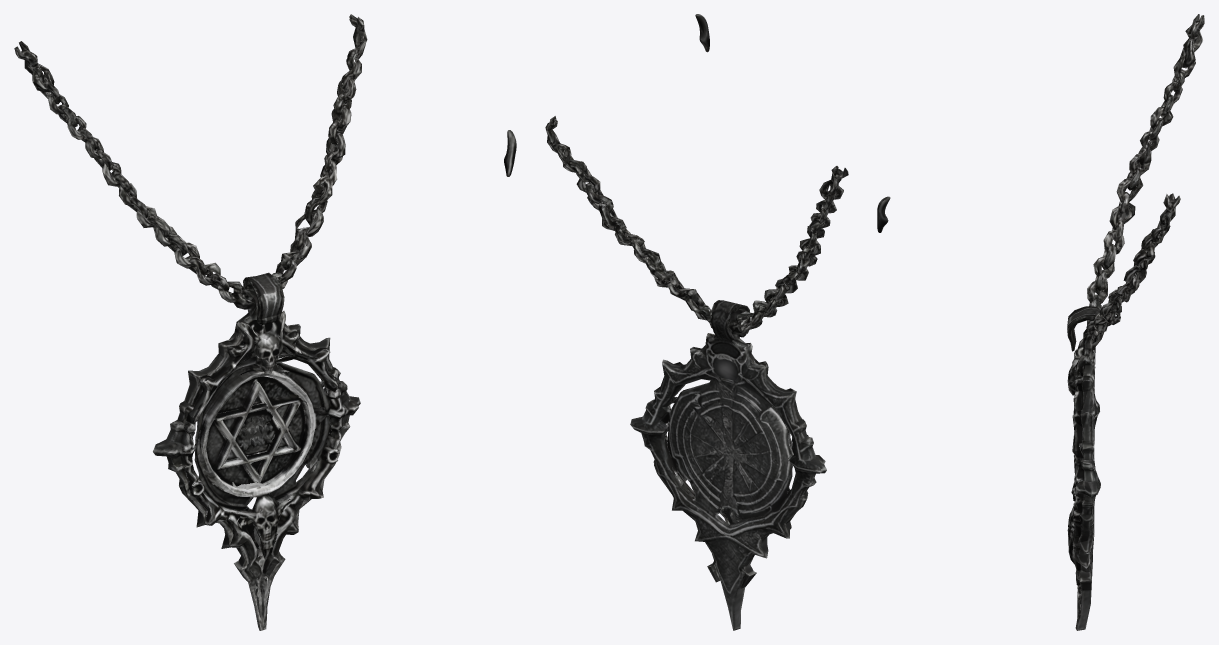
Rendered from medallion_necklace_LOD1.glb.
3 renders of one model, left to right at view 1: azimuth 30°, elevation 25°; view 2: azimuth 150°, elevation 25°; view 3: azimuth 270°, elevation 25°, orthographic. The views are drawn at different scales.
Parts seen in each view (by area): view 1: medallion_necklace_LOD1; view 2: medallion_necklace_LOD1; view 3: medallion_necklace_LOD1.
Part boxes in pixels (x1,y1,x2,y2): medallion_necklace_LOD1: (14, 14, 516, 630); medallion_necklace_LOD1: (545, 14, 848, 630); medallion_necklace_LOD1: (877, 14, 1204, 630).
Size of the model in its own units: 0.2709 by 0.4494 by 0.2488.
Materials: 1 (1 with a texture image).
